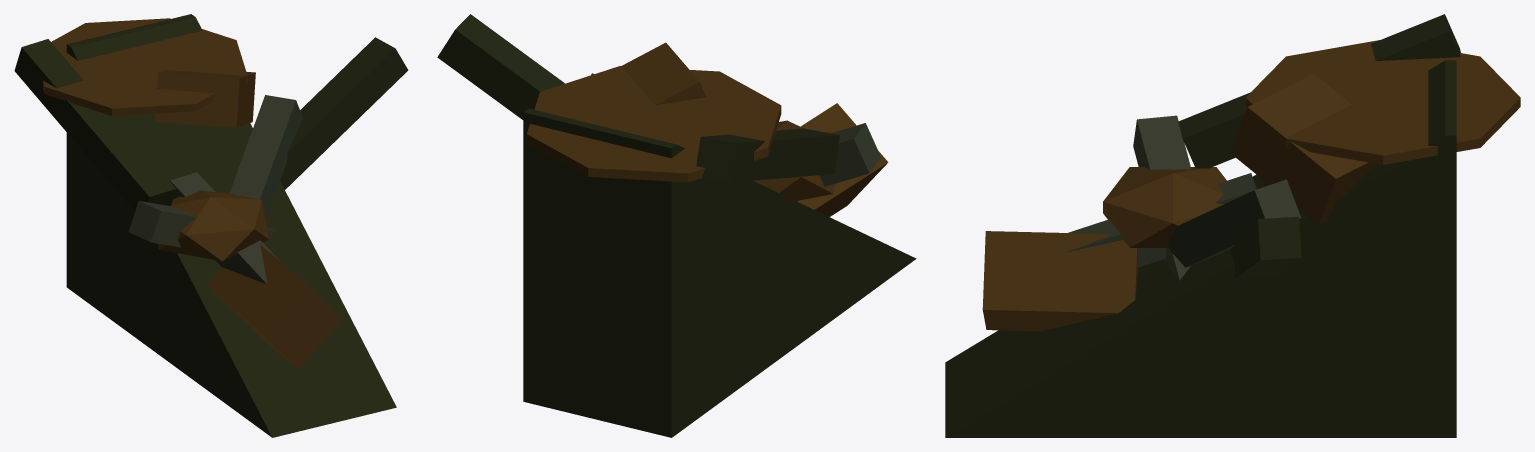
The model's file is SM_PilaZombi_Altura1_s2_LOD1.fbx.
3 renders of one model, left to right at view 1: azimuth 30°, elevation 25°; view 2: azimuth 150°, elevation 25°; view 3: azimuth 270°, elevation 25°, orthographic. The views are drawn at different scales.
Visible parts, largest first — view 1: SM_pila_zombis_v10_LOD1; view 2: SM_pila_zombis_v10_LOD1; view 3: SM_pila_zombis_v10_LOD1.
Boxes of the visible parts, x1=… form: SM_pila_zombis_v10_LOD1: x1=14, y1=14, x2=408, y2=437; SM_pila_zombis_v10_LOD1: x1=437, y1=14, x2=916, y2=437; SM_pila_zombis_v10_LOD1: x1=945, y1=14, x2=1520, y2=437.
Size of the model in its own units: 1.32 by 1.02 by 1.67.
